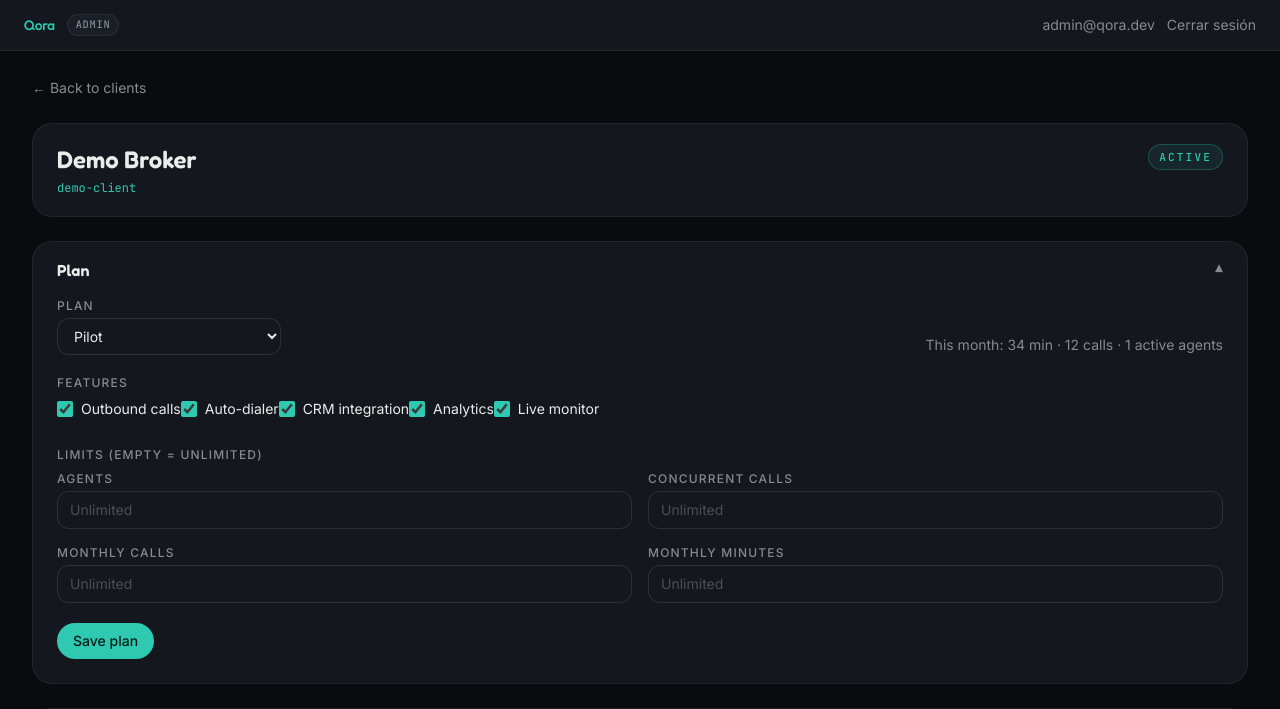
Scenario: ClientDetailPage › clicking the back link navigates to /admin
The image size is (1280, 709).
Click the link "← Back to clients" at (89, 88), box [32, 78, 146, 98]
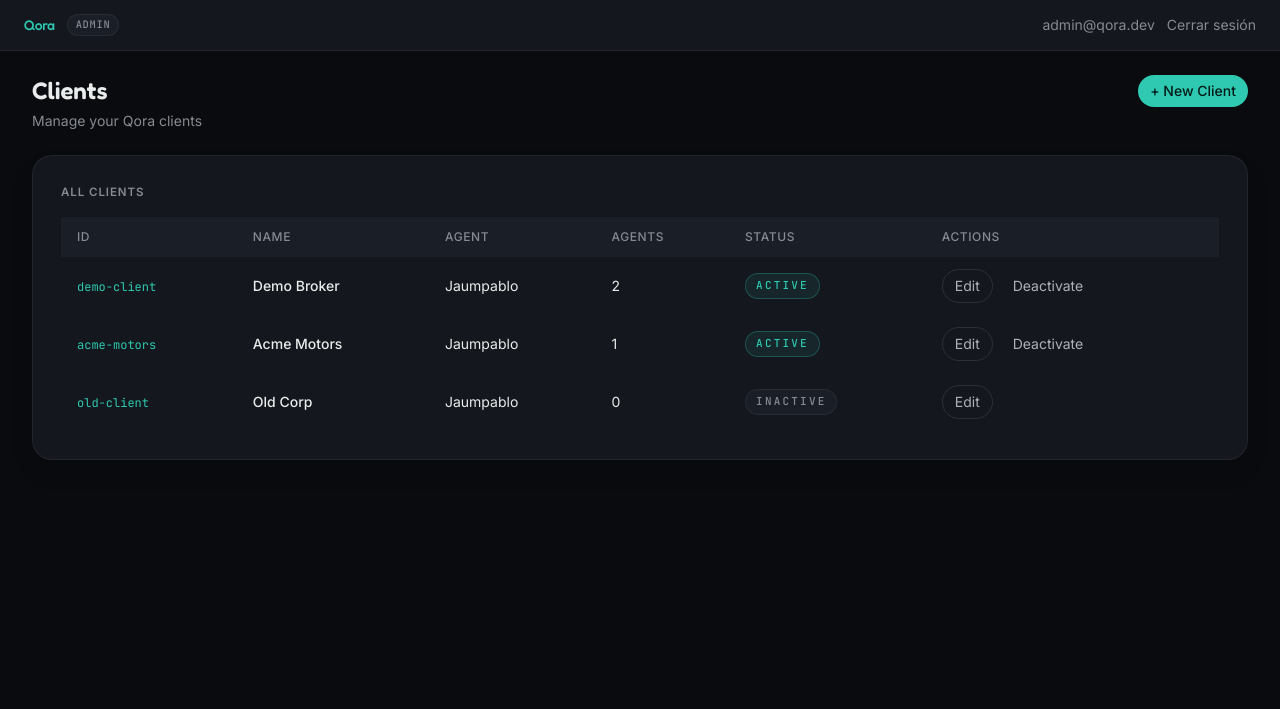
Result: the heading "Clients" is shown at [32, 76, 108, 105]
